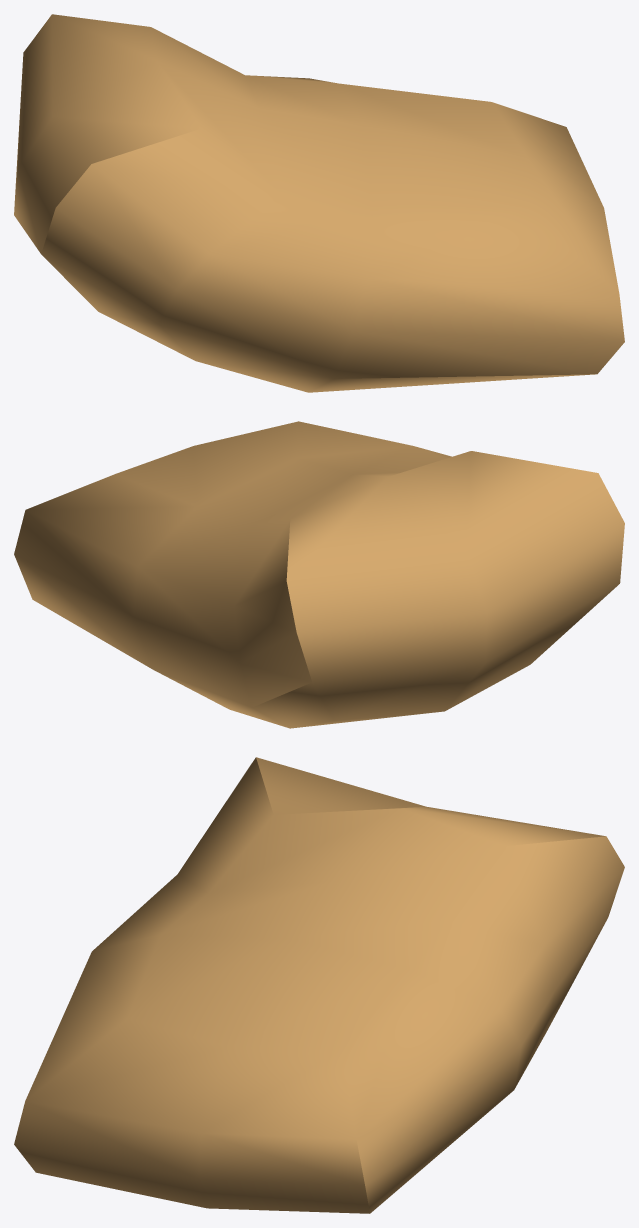
The model's file is urp 4.fbx.
3 views of the same model, one above another, from view 1: azimuth 30°, elevation 25°; view 2: azimuth 150°, elevation 25°; view 3: azimuth 270°, elevation 25° (orthographic).
Parts seen in each view (by area): view 1: urp 4; view 2: urp 4; view 3: urp 4.
Part boxes in pixels (box(x1,y1,x2,y2)): urp 4: box(14, 14, 624, 392); urp 4: box(14, 421, 624, 728); urp 4: box(14, 757, 624, 1213).
Size of the model in its own units: 101 by 44.2 by 94.13.
